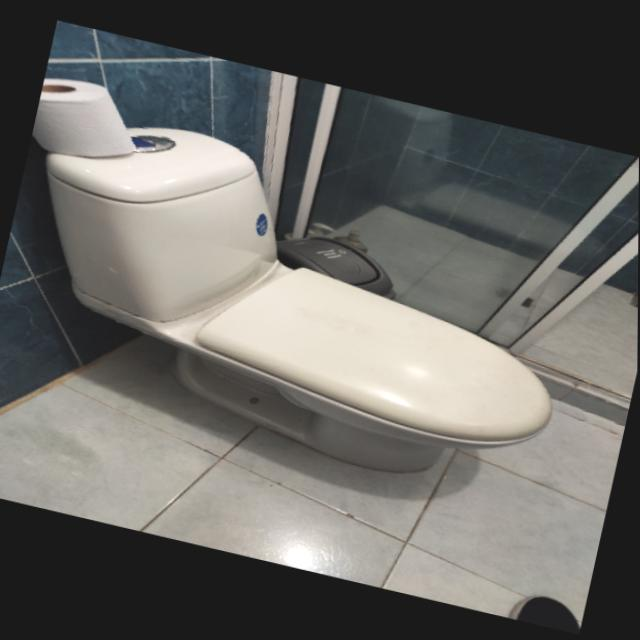toilet: (0, 96, 595, 504)
